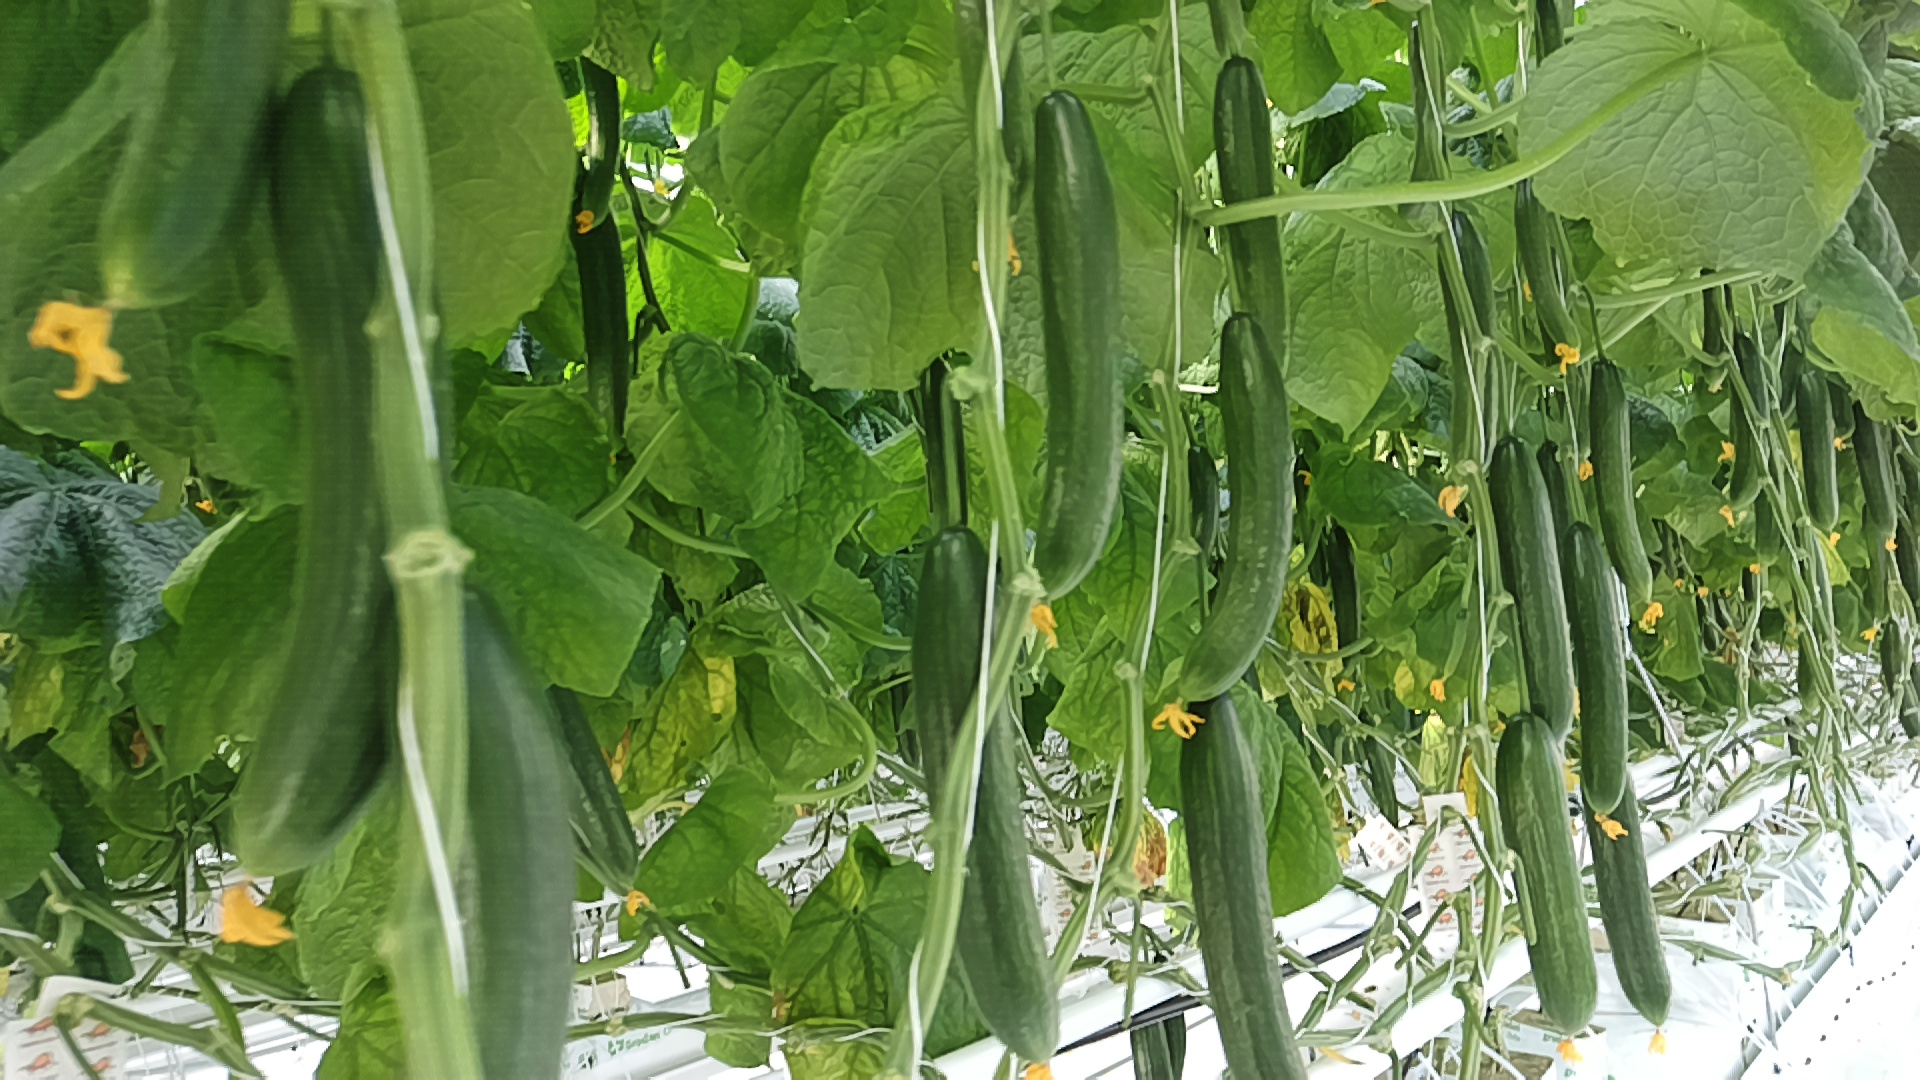gurka: (907, 525, 1079, 1062), (1007, 69, 1138, 599), (1151, 309, 1291, 731), (1192, 41, 1312, 368), (1495, 695, 1609, 1040), (1553, 508, 1638, 825), (1576, 359, 1671, 615), (1499, 167, 1596, 363), (1789, 363, 1854, 534)
